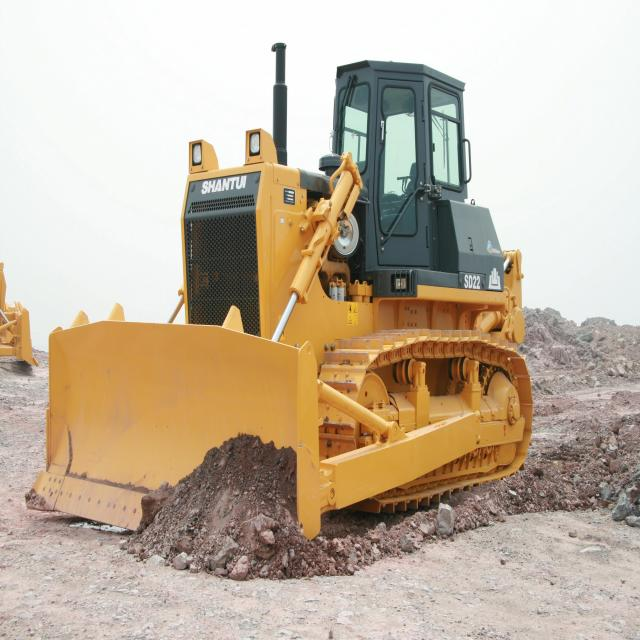Bulldozer: (36, 25, 555, 574)
